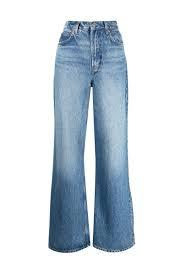jeans: (46, 16, 139, 255)
